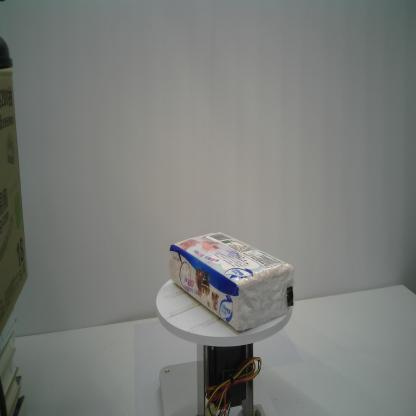Tissue: (170, 232, 294, 332)
